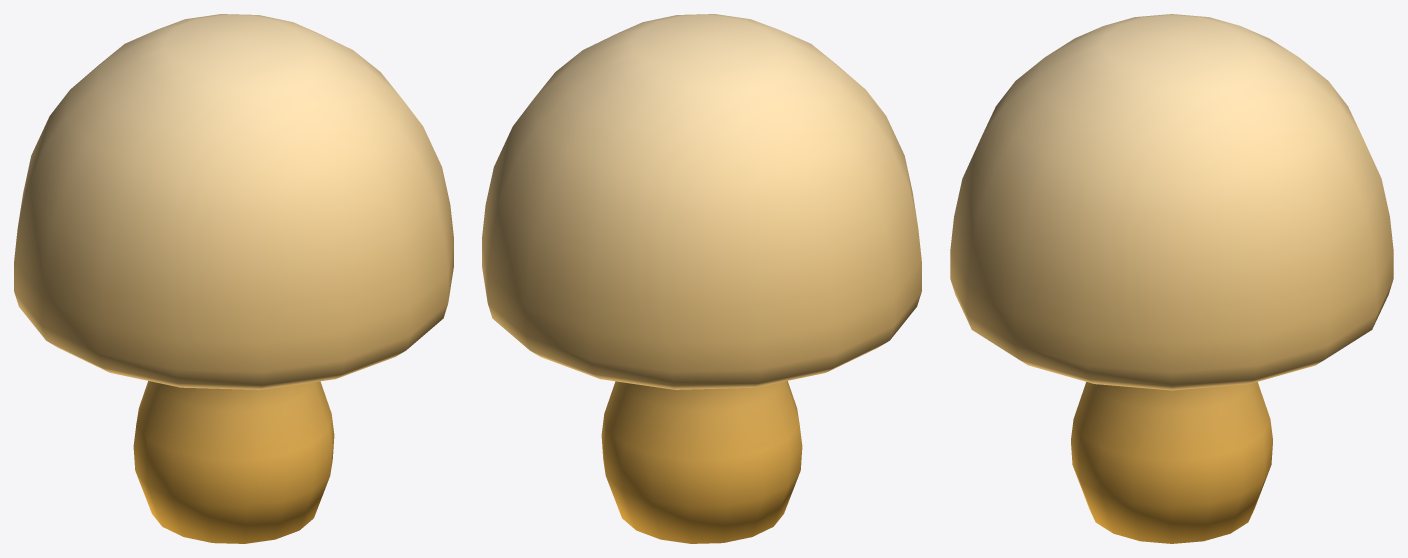
File: Farm_Crop_Mashroom_02.fbx
3 renders of one model, left to right at view 1: azimuth 30°, elevation 25°; view 2: azimuth 150°, elevation 25°; view 3: azimuth 270°, elevation 25°, orthographic.
Parts seen in each view (by area): view 1: Farm_Crop_Mashroom_02; view 2: Farm_Crop_Mashroom_02; view 3: Farm_Crop_Mashroom_02.
Part boxes in pixels (box(x1,y1,x2,y2)): Farm_Crop_Mashroom_02: box(14, 14, 453, 543); Farm_Crop_Mashroom_02: box(482, 14, 921, 543); Farm_Crop_Mashroom_02: box(950, 14, 1393, 543).
Bounding box in the file's own units: 58.29 × 68.35 × 58.29.
